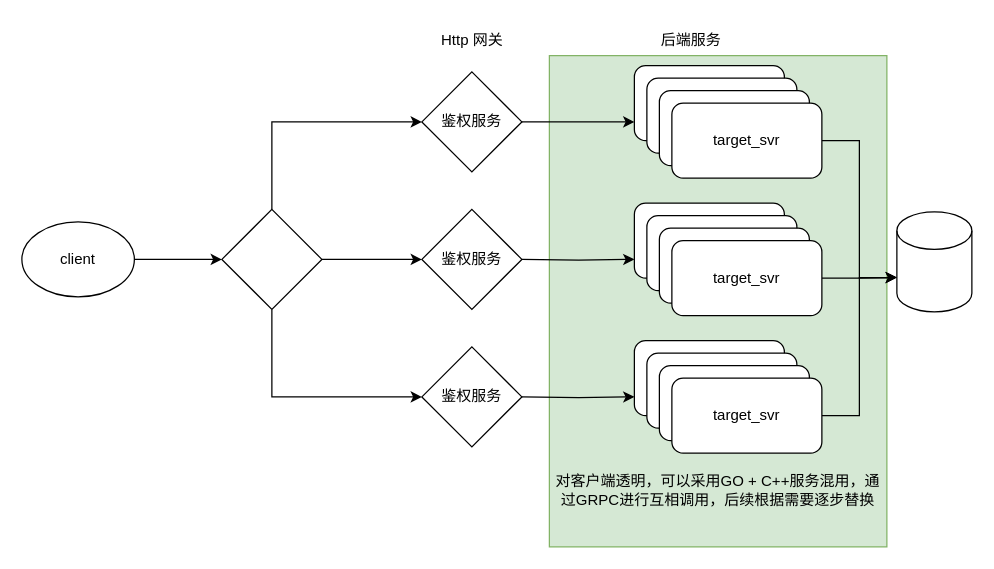
This 994x569 diagram has some shape labels left out. Here are the shapes that lost their labels. From the top down, the centre of each, then its label:
the point at 271,258: nginx
the point at 934,261: mysql
